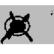not correct: (0, 10, 35, 45)
